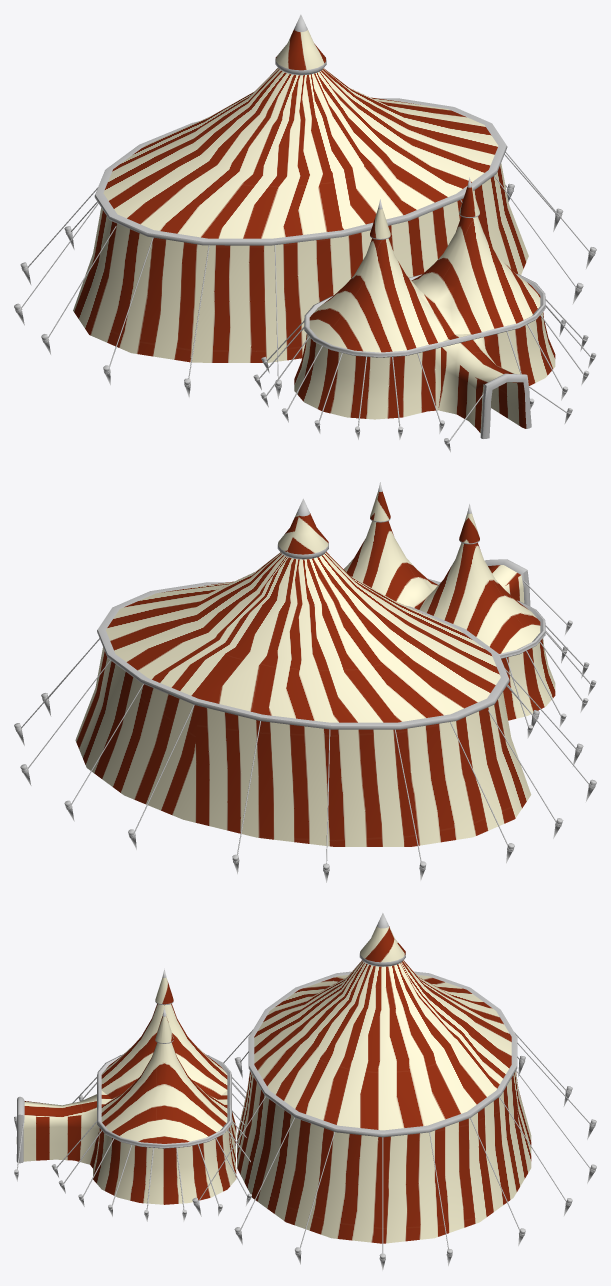
File: SM_BigTop.fbx
3 views of the same model, one above another, from view 1: azimuth 30°, elevation 25°; view 2: azimuth 150°, elevation 25°; view 3: azimuth 270°, elevation 25° (orthographic). The views are drawn at different scales.
Visible parts, largest first — view 1: BigTop; view 2: BigTop; view 3: BigTop.
Part boxes in pixels (x1,y1,x2,y2): BigTop: (14, 14, 596, 452); BigTop: (14, 482, 596, 882); BigTop: (14, 913, 596, 1270).
Bounding box in the file's own units: 13873 × 7137 × 15108.
